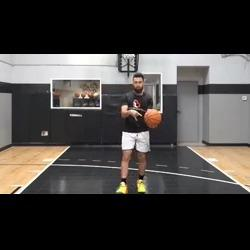BasketBall: (142, 107, 163, 129)
